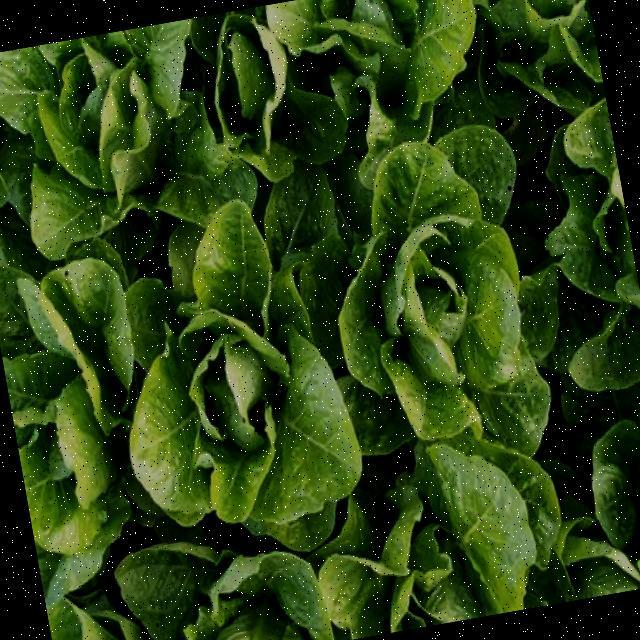Healthy: (310, 120, 585, 472), (92, 203, 357, 565)
